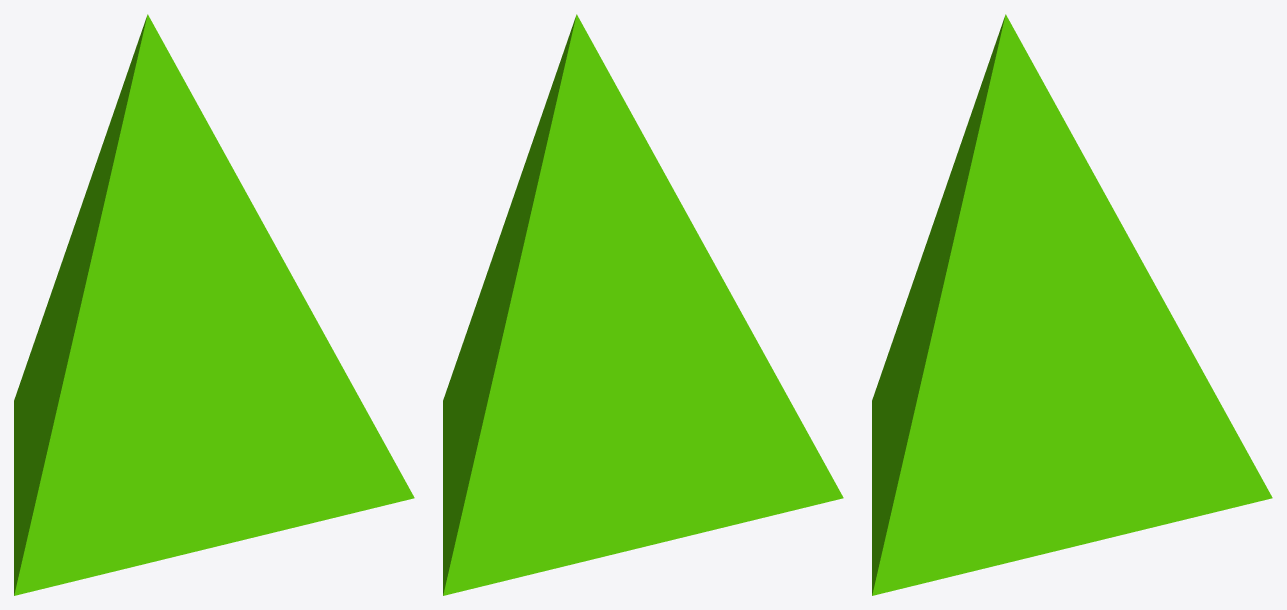
Rendered from ArrowPyramid.fbx.
3 views of the same model, side by side, from view 1: azimuth 30°, elevation 25°; view 2: azimuth 150°, elevation 25°; view 3: azimuth 270°, elevation 25° (orthographic).
Parts seen in each view (by area): view 1: ArrowPyramid_001; view 2: ArrowPyramid_001; view 3: ArrowPyramid_001.
Part boxes in pixels (<box>): ArrowPyramid_001: <box>14,14,414,595</box>; ArrowPyramid_001: <box>443,14,843,595</box>; ArrowPyramid_001: <box>872,14,1272,595</box>.
Bounding box in the file's own units: 4.41 × 5.09 × 3.82.
